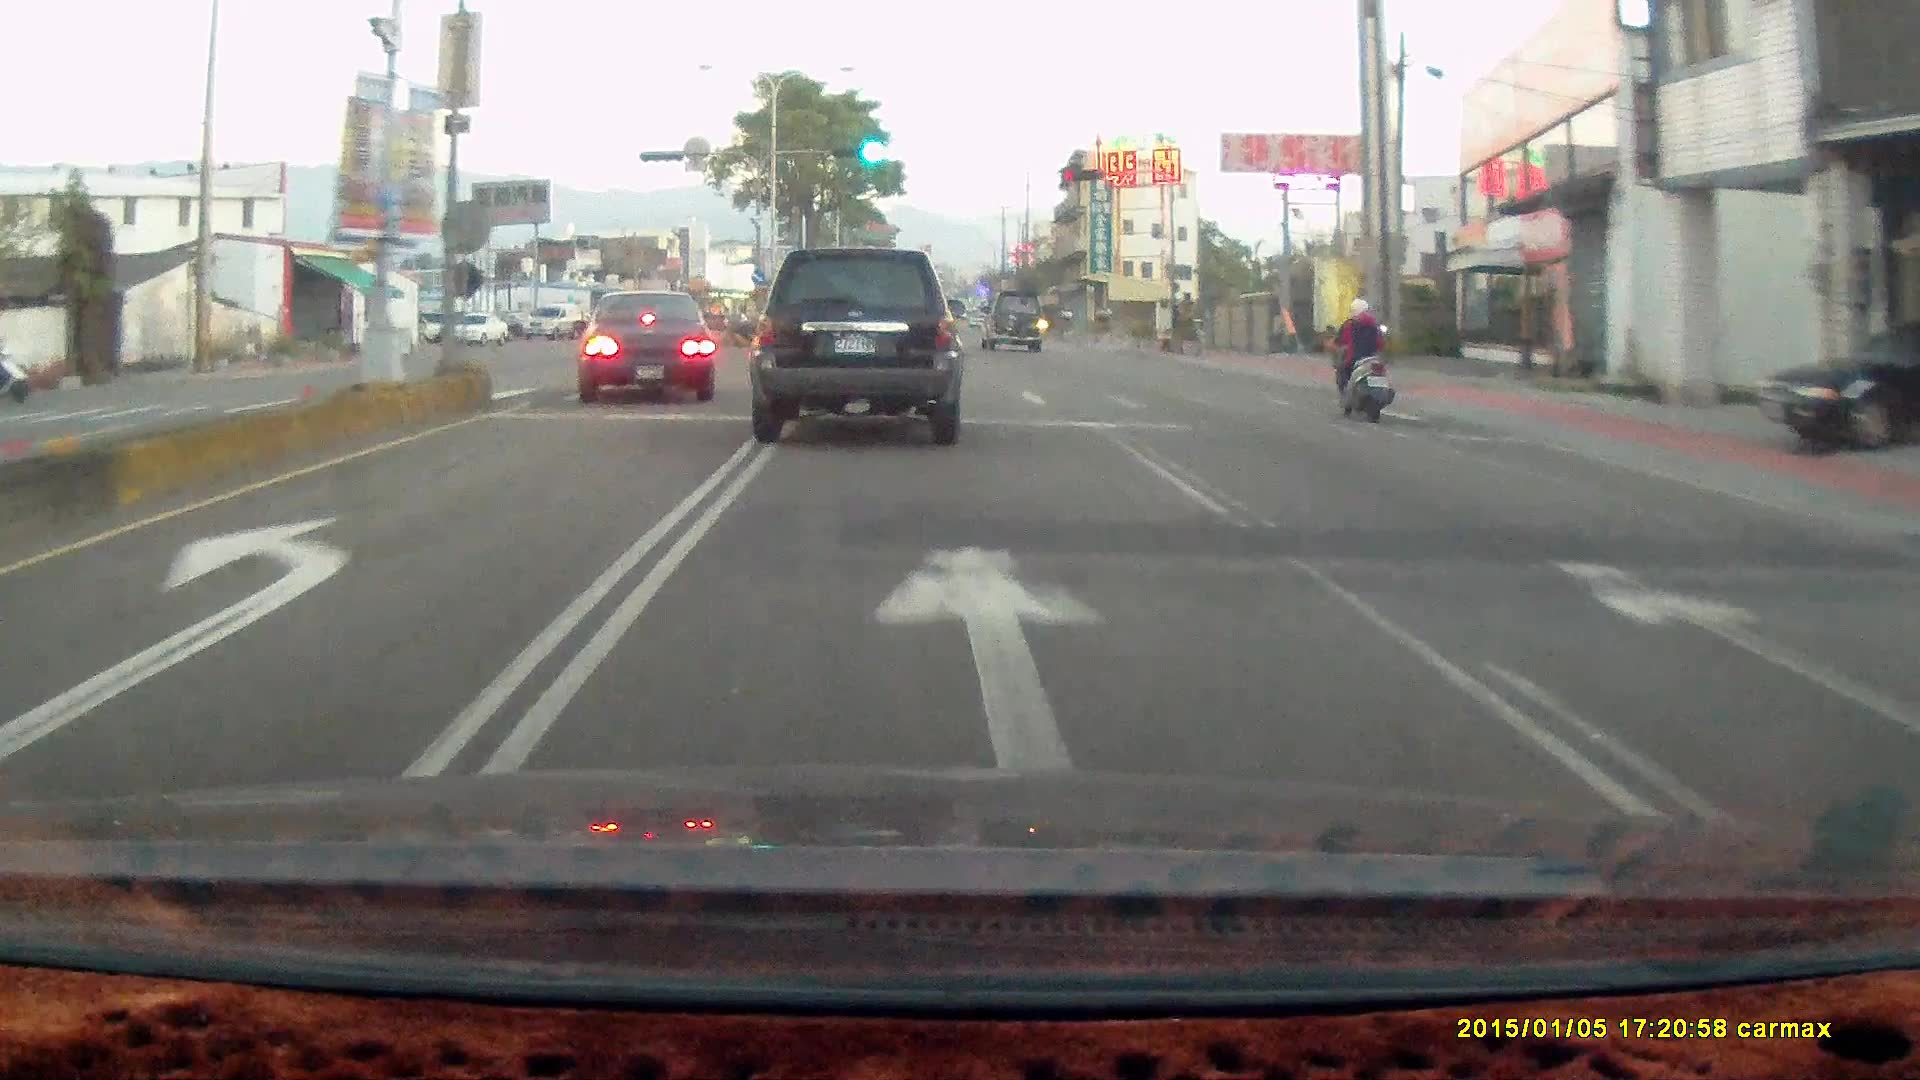rider: (1315, 284, 1406, 433), (1324, 295, 1392, 421), (0, 343, 31, 400)
vehicle: (745, 234, 968, 439), (745, 247, 963, 443), (1754, 317, 1919, 451), (1766, 317, 1920, 457), (573, 286, 722, 407), (569, 288, 716, 402), (978, 287, 1049, 353), (977, 287, 1044, 351), (439, 310, 508, 344), (521, 303, 583, 339)
